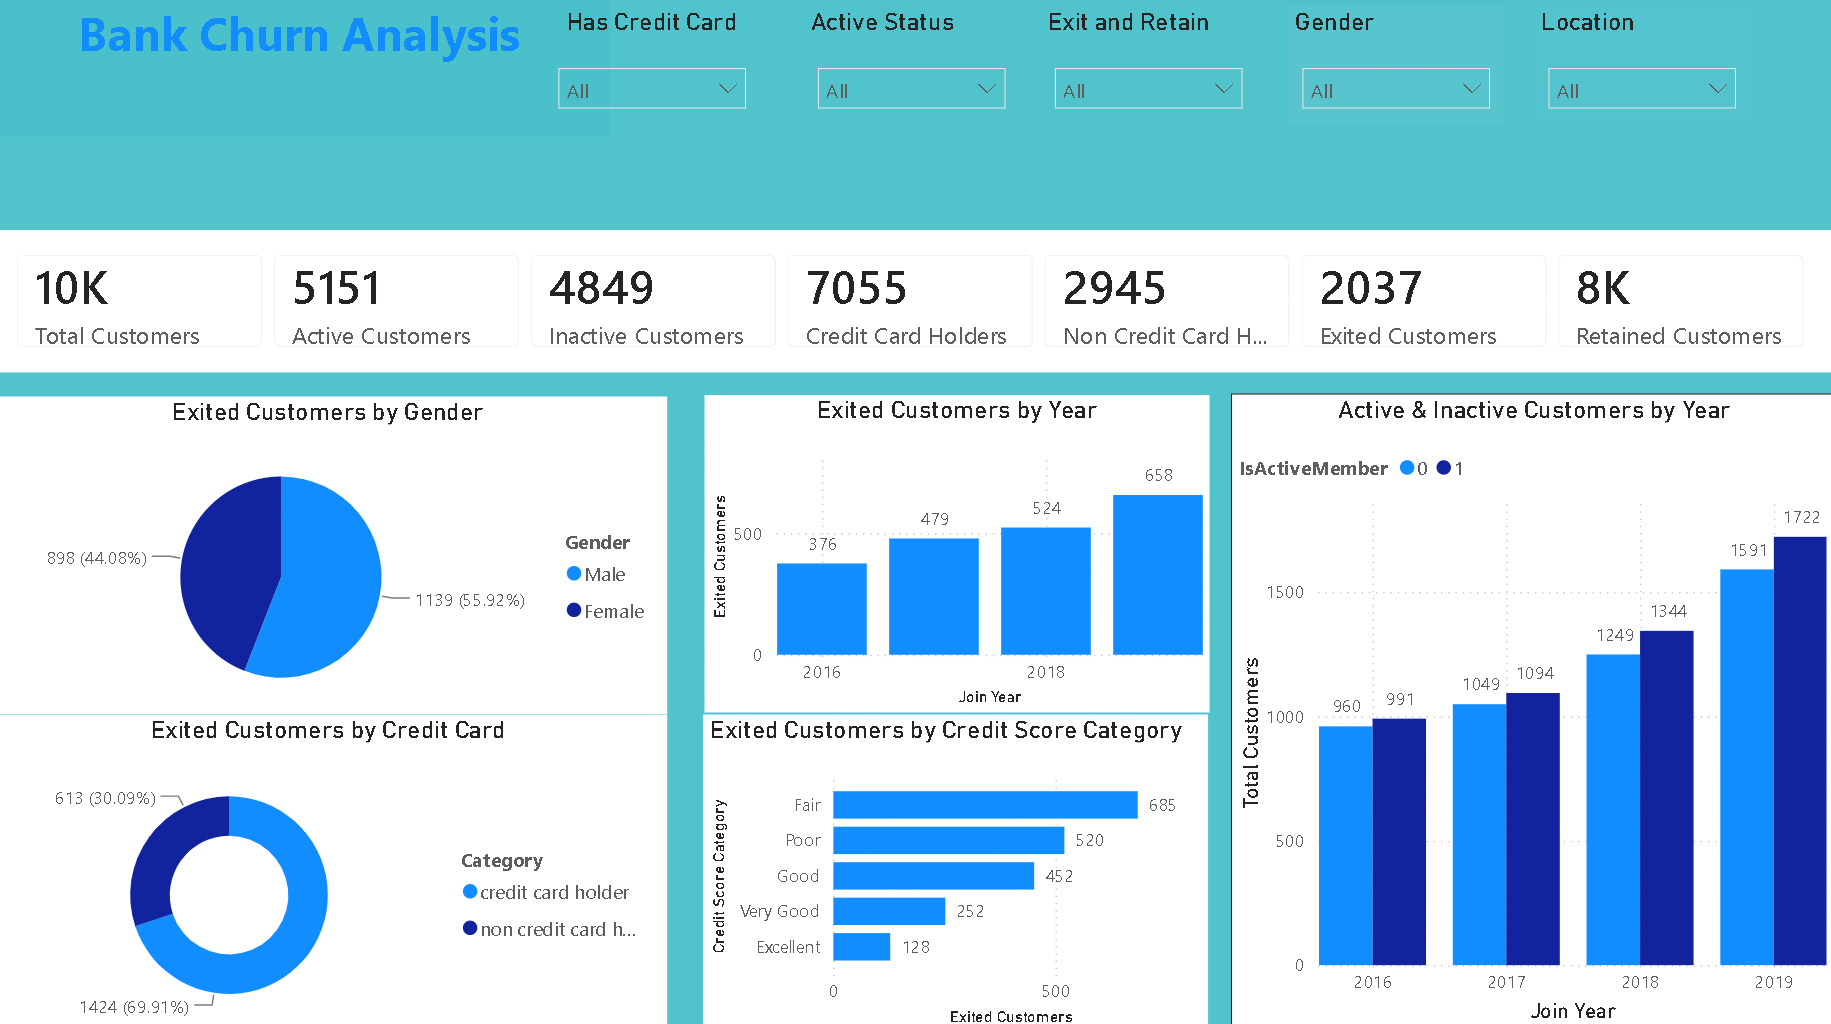

The page's visual inventory and layout, read from the dashboard file:
{"tool":"powerbi","page":{"name":"Page 1","canvas":[1280,720],"ordinal":0},"visuals":[{"type":"cardVisual","fields":{"Data":["ActiveCustomer.Total Customers","ActiveCustomer.Active Customers","ActiveCustomer.Inactive Customers","Bank_Churn.Non Credit Card Holders","ActiveCustomer.Non Credit Card Holders","ActiveCustomer.Exit Customers","ActiveCustomer.Retained Customers"]},"box":[1.6,164.2,1279,98.5],"z":0},{"type":"clusteredColumnChart","title":"Active & Inactive Customers by Year","fields":{"Category":["Bank_Churn.Join Year"],"Y":["ActiveCustomer.Total Customers"],"Series":["Bank_Churn.IsActiveMember"]},"box":[860.7,277.9,419.3,441.5],"z":1000},{"type":"pieChart","fields":{"Y":["ActiveCustomer.Exit Customers"],"Category":["Bank_Churn.Gender"]},"box":[0,279.9,470,220],"z":2000},{"type":"donutChart","title":"Exited Customers by Credit Card","fields":{"Y":["ActiveCustomer.Exited Customers"],"Category":["Credit Card.Category"]},"box":[0,499.7,470,220],"z":3000},{"type":"clusteredColumnChart","title":"Exited Customers by Year","fields":{"Y":["ActiveCustomer.Exited Customers"],"Category":["Bank_Churn.Join Year"]},"box":[495.6,278.3,350,220],"z":4000},{"type":"clusteredBarChart","fields":{"Category":["Bank_Churn.Credit Score Category"],"Y":["ActiveCustomer.Exited Customers"]},"box":[495.1,500.3,350.3,220],"z":5000},{"type":"textbox","box":[0,0,429.9,100.3],"z":6000},{"type":"slicer","title":"Has Credit Card","fields":{"Values":["Bank_Churn.HasCrCard"]},"box":[384.6,9.4,150,80],"z":7000},{"type":"slicer","title":"Active Status","fields":{"Values":["ActiveCustomer.ActiveCategory"]},"box":[564.4,9.4,150,80],"z":8000},{"type":"slicer","title":"Exit and Retain","fields":{"Values":["Exit Customer.ExitCategory","Exit Customer.ExitID"]},"box":[728.6,9.4,150,80],"z":9000},{"type":"slicer","title":"Gender","fields":{"Values":["Bank_Churn.Gender"]},"box":[900.6,9.4,150,80],"z":10000},{"type":"slicer","title":"Location","fields":{"Values":["Geography.GeographyLocation"]},"box":[1071,9.4,150,80],"z":11000}]}

Visuals, with their boxes in screenshot pixels (x1, y1, x2, y2), scaled from the page's 1280x720 canvas onto the 1831x1024 screenshot:
cardVisual - ActiveCustomer.Total Customers x ActiveCustomer.Active Customers: 2/234/1830/374
"Active & Inactive Customers by Year" clusteredColumnChart: 1231/395/1830/1023
pieChart - ActiveCustomer.Exit Customers x Bank_Churn.Gender: 0/398/672/711
"Exited Customers by Credit Card" donutChart: 0/711/672/1023
"Exited Customers by Year" clusteredColumnChart: 709/396/1210/709
clusteredBarChart - Bank_Churn.Credit Score Category x ActiveCustomer.Exited Customers: 708/712/1209/1023
textbox: 0/0/615/143
"Has Credit Card" slicer: 550/13/765/127
"Active Status" slicer: 807/13/1022/127
"Exit and Retain" slicer: 1042/13/1257/127
"Gender" slicer: 1288/13/1503/127
"Location" slicer: 1532/13/1747/127
